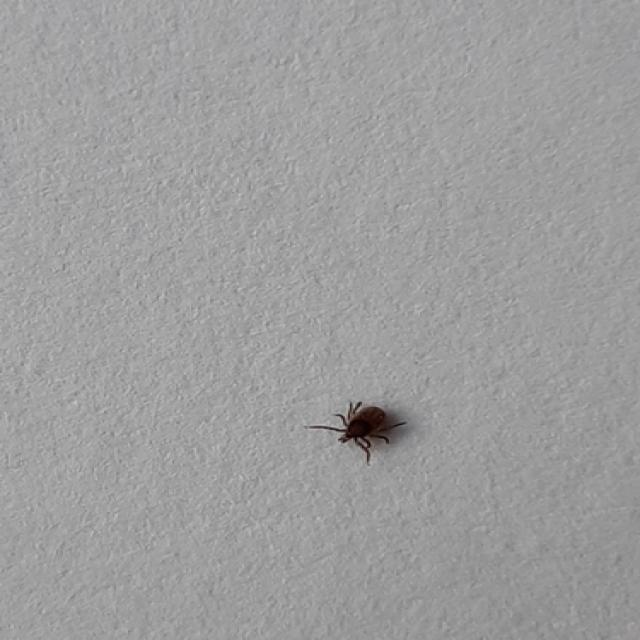Ixodes Ricinus-F: (311, 401, 410, 466)
